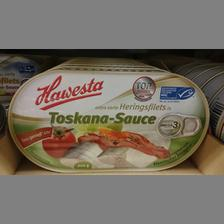Fisch: (7, 68, 209, 172)
